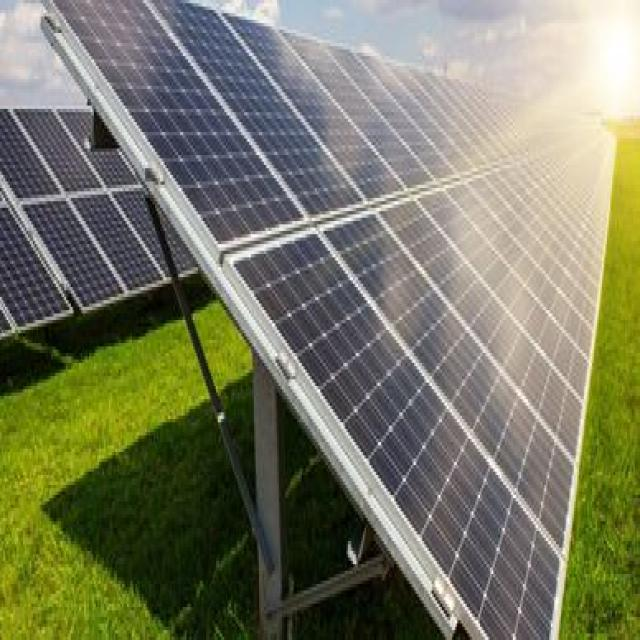clean-solar-panel: (44, 2, 611, 634)
